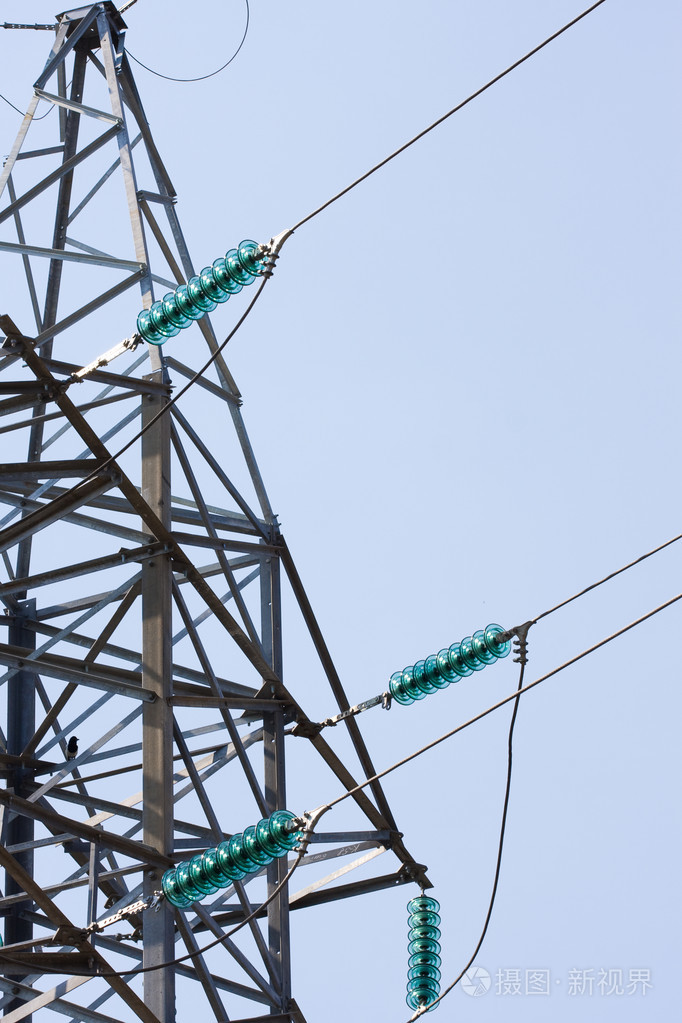insulator: (162, 810, 304, 905), (137, 242, 261, 344), (381, 629, 508, 707), (403, 895, 441, 1007)
